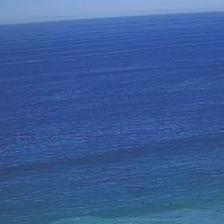surfer: (98, 202, 111, 206), (142, 201, 154, 205), (170, 201, 174, 205), (199, 192, 202, 196)
